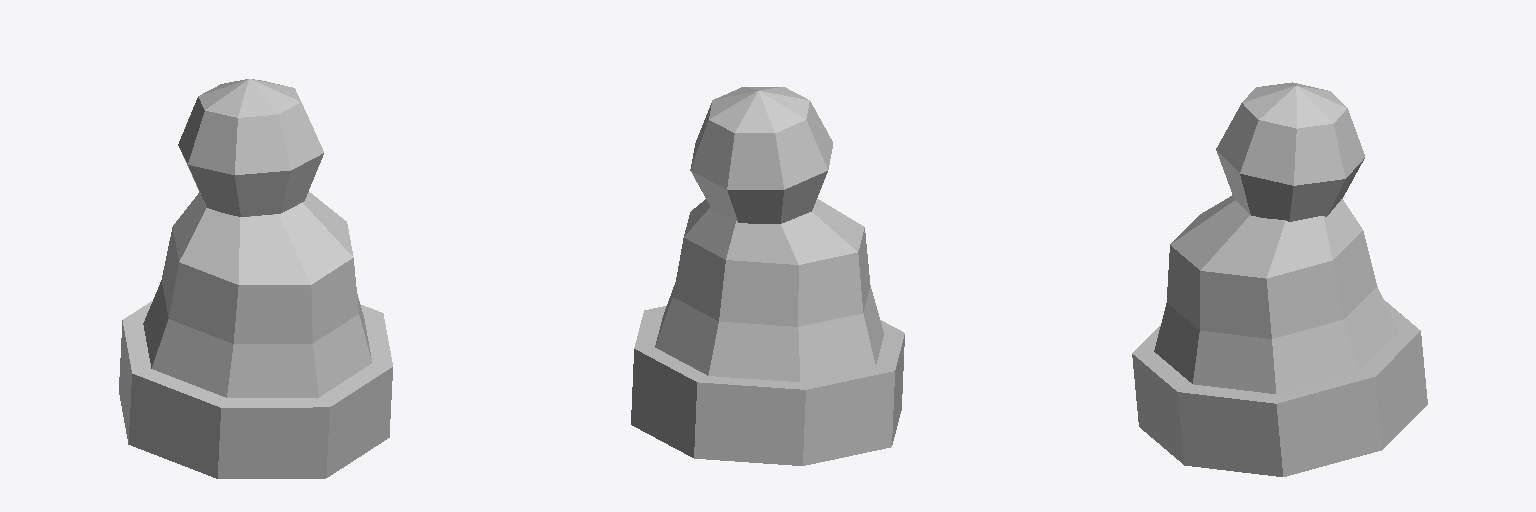
Rendered from winter_hat.obj.
3 views of the same model, side by side, from view 1: azimuth 30°, elevation 25°; view 2: azimuth 150°, elevation 25°; view 3: azimuth 270°, elevation 25° (orthographic).
Parts seen in each view (by area): view 1: Cube_Cube.001, Cube.001_Cube.002, Cube.002_Cube.003; view 2: Cube_Cube.001, Cube.001_Cube.002, Cube.002_Cube.003; view 3: Cube_Cube.001, Cube.001_Cube.002, Cube.002_Cube.003.
Boxes of the visible parts, x1=… form: Cube_Cube.001: x1=143, y1=192, x2=371, y2=397; Cube.001_Cube.002: x1=119, y1=301, x2=392, y2=478; Cube.002_Cube.003: x1=178, y1=79, x2=323, y2=216; Cube_Cube.001: x1=655, y1=199, x2=883, y2=381; Cube.001_Cube.002: x1=631, y1=306, x2=904, y2=465; Cube.002_Cube.003: x1=690, y1=87, x2=832, y2=223; Cube_Cube.001: x1=1154, y1=195, x2=1398, y2=393; Cube.001_Cube.002: x1=1132, y1=300, x2=1427, y2=476; Cube.002_Cube.003: x1=1216, y1=82, x2=1364, y2=221.
Bounding box in the file's own units: 0.6667 × 0.8665 × 0.6797.